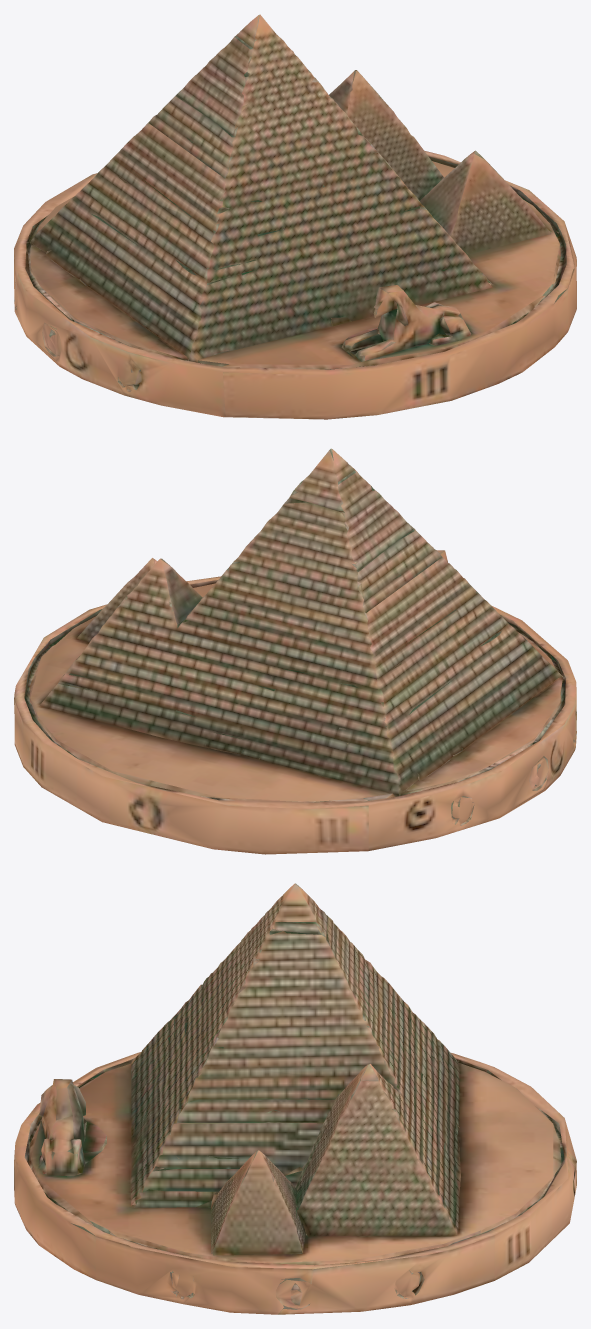
Rendered from pyramid_giza_bronze.glb.
3 renders of one model, top to bottom at view 1: azimuth 30°, elevation 25°; view 2: azimuth 150°, elevation 25°; view 3: azimuth 270°, elevation 25°, orthographic.
Parts seen in each view (by area): view 1: Mesh_0; view 2: Mesh_0; view 3: Mesh_0.
Boxes of the visible parts, x1=… form: Mesh_0: x1=14, y1=14, x2=576, y2=419; Mesh_0: x1=14, y1=448, x2=576, y2=854; Mesh_0: x1=14, y1=883, x2=576, y2=1314.
Size of the model in its own units: 1.91 by 1.11 by 1.91.
Materials: 1 (1 with a texture image).
